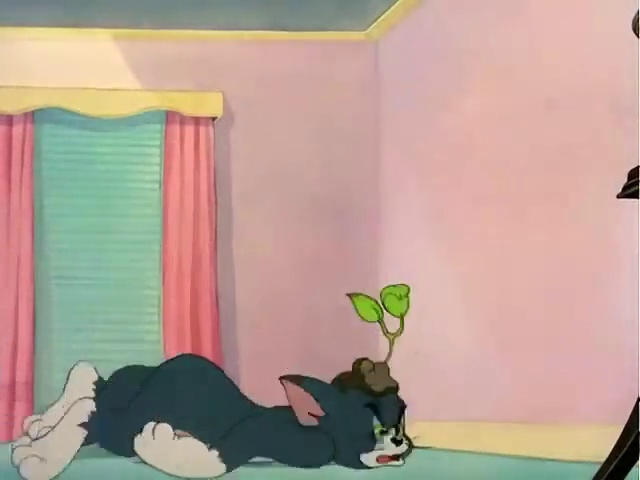tom: (7, 259, 457, 472)
